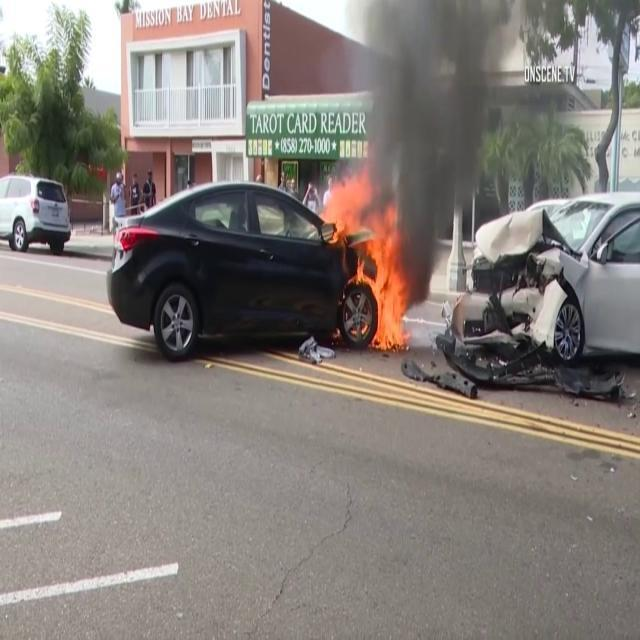Fire: (328, 184, 417, 358)
Smoke: (342, 4, 524, 276)
